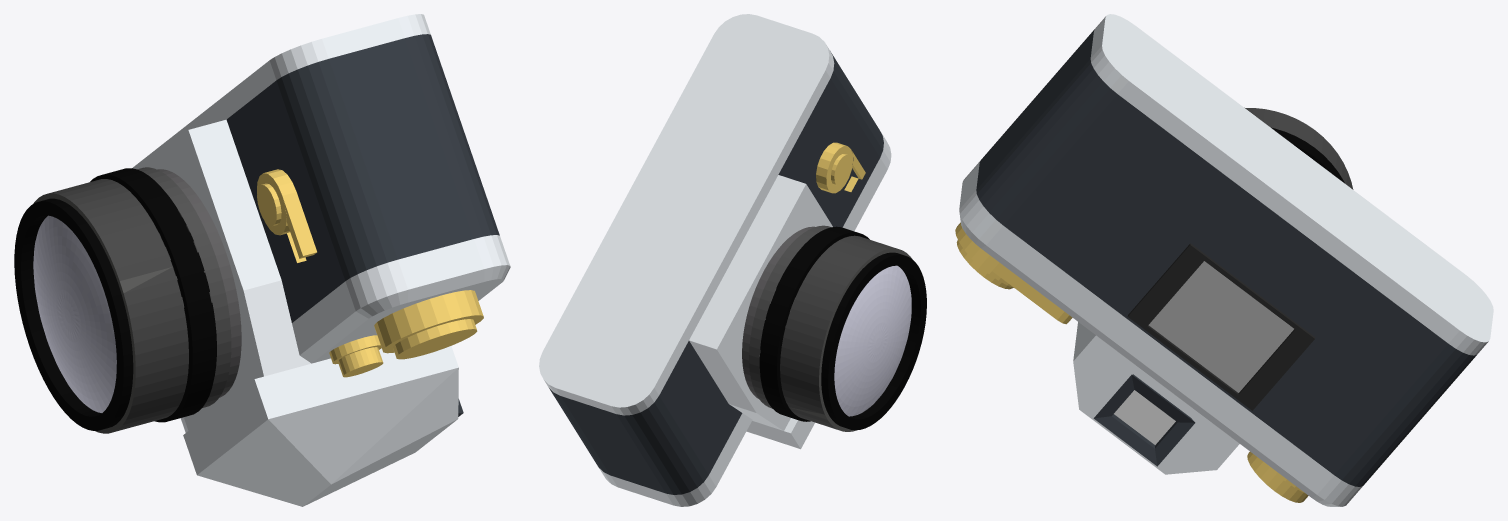
File: CAMERA3.glb
The picture shows the model from 3 angles, left to right: view 1: azimuth 30°, elevation 25°; view 2: azimuth 150°, elevation 25°; view 3: azimuth 270°, elevation 25°; orthographic projection. The views are drawn at different scales.
Parts seen in each view (by area): view 1: _0; view 2: _0; view 3: _0.
Part boxes in pixels (x1,y1,x2,y2): _0: (14, 14, 510, 506); _0: (539, 14, 926, 506); _0: (955, 14, 1493, 506).
Size of the model in its own units: 4.59 by 7.24 by 7.77.
